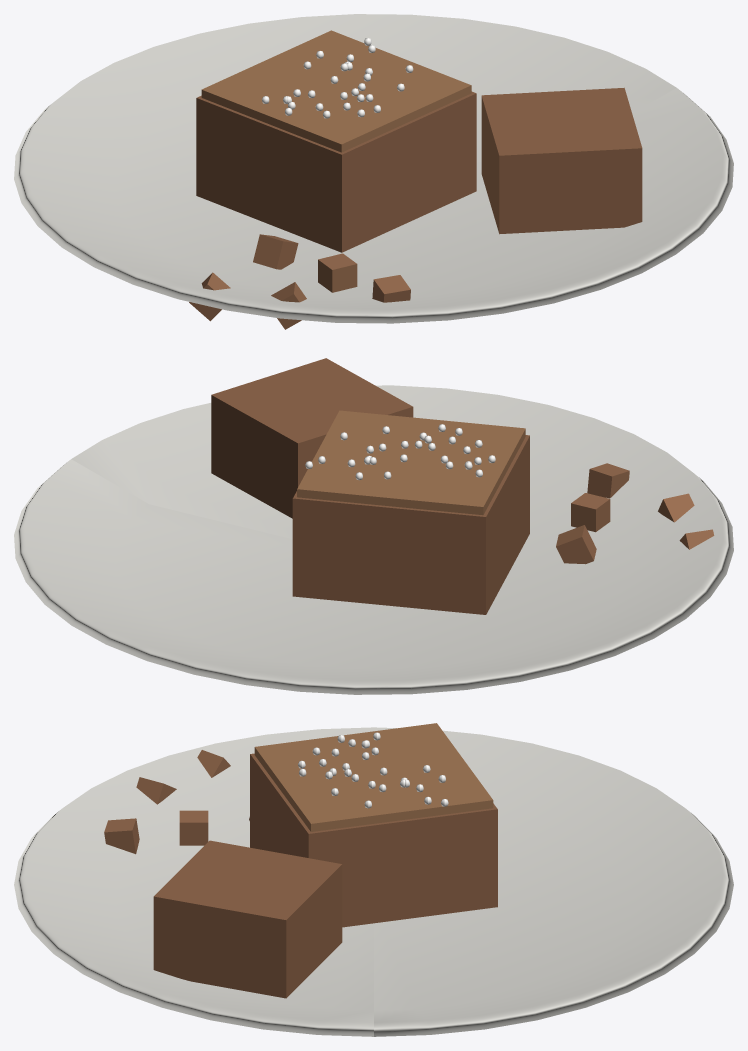
Rendered from chocolate-brownie.glb.
3 renders of one model, top to bottom at view 1: azimuth 30°, elevation 25°; view 2: azimuth 150°, elevation 25°; view 3: azimuth 270°, elevation 25°, orthographic.
Parts seen in each view (by area): view 1: chocolate-brownie; view 2: chocolate-brownie; view 3: chocolate-brownie.
Boxes of the visible parts, x1=… form: chocolate-brownie: x1=14, y1=14, x2=733, y2=329; chocolate-brownie: x1=14, y1=358, x2=733, y2=694; chocolate-brownie: x1=14, y1=723, x2=733, y2=1036.
Size of the model in its own units: 0.2 by 0.0407 by 0.2.
